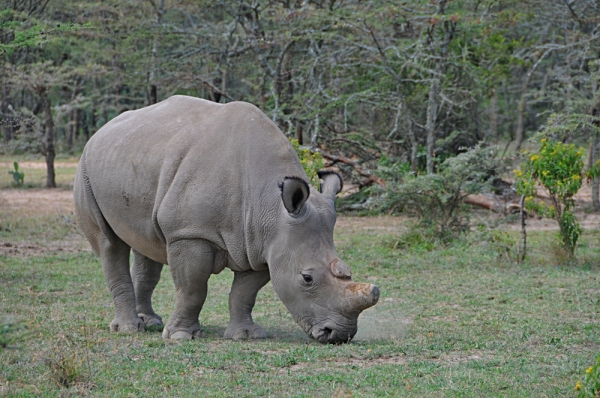Rhinoceros: (67, 76, 383, 347)
